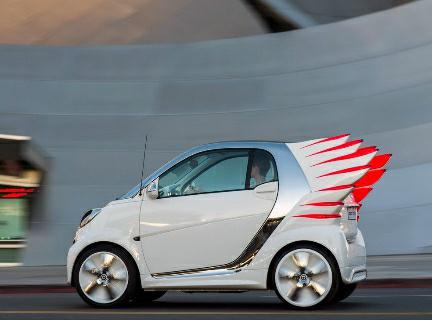smart-forjeremy: (71, 138, 380, 309)
